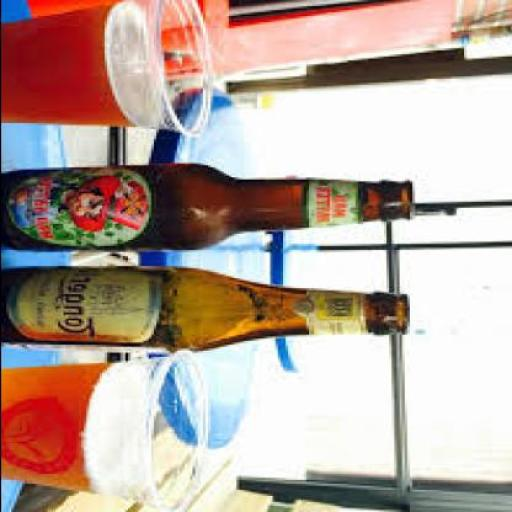glass: (2, 166, 414, 252), (2, 268, 408, 355)
plastic: (2, 355, 212, 510), (3, 2, 214, 137)
